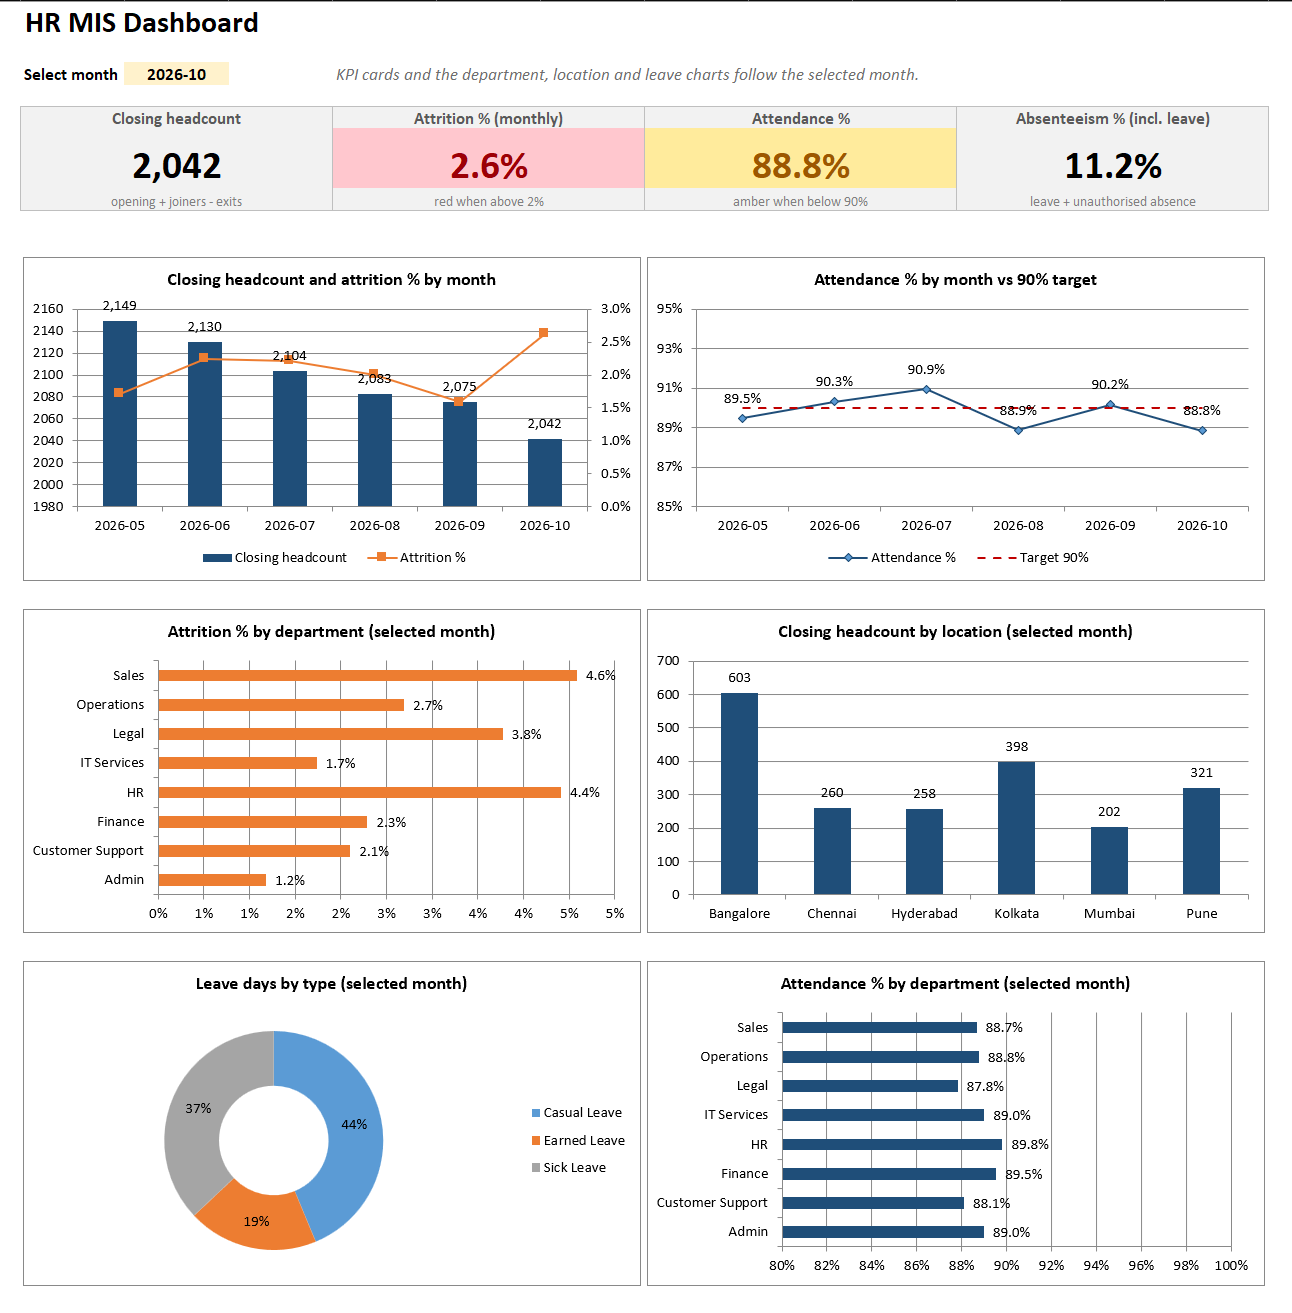

This screenshot's page, from the dashboard's own definition file:
{"tool":"powerbi","page":{"name":"Page 1","canvas":[1325,720],"ordinal":0},"visuals":[{"type":"cardVisual","fields":{"Data":["Master_Data.Closing Headcount"]},"box":[324.2,65.4,240.5,102],"z":0},{"type":"cardVisual","fields":{"Data":["Master_Data.Absenteeism %"]},"box":[1115,65.4,210,102],"z":1000},{"type":"cardVisual","fields":{"Data":["Master_Data.Attrition %"]},"box":[586,65.4,240.5,102],"z":2000},{"type":"cardVisual","fields":{"Data":["Master_Data.Attendance %"]},"box":[861.5,65.4,210,102],"z":3000},{"type":"lineClusteredColumnComboChart","title":"Headcount and Attrition % by Month","fields":{"Category":["Master_Data.Month_Key"],"Y":["Master_Data.Closing Headcount"],"Y2":["Master_Data.Attrition %"]},"box":[16.7,187.2,392.7,251.1],"z":4000},{"type":"lineChart","title":"Attendance % vs 90% Target","fields":{"Category":["Master_Data.Month_Key"],"Y":["Master_Data.Attendance %","Master_Data.Attendance Target"]},"box":[432.3,187.2,394.2,251.1],"z":5000},{"type":"clusteredBarChart","title":"Attrition % by Department","fields":{"Category":["Master_Data.Department"],"Y":["Master_Data.Attrition %"]},"box":[844.7,187.2,458.1,251.1],"z":6000},{"type":"columnChart","title":"\tHeadcount by Location","fields":{"Y":["Master_Data.Closing Headcount"],"Category":["Master_Data.Location"]},"box":[16.7,458.1,392.7,249.6],"z":7000},{"type":"donutChart","title":"Leave Days by Type","fields":{"Category":["Master_Data.Leave_Type"],"Y":["Sum(Master_Data.Leave_Days)"]},"box":[432.3,458.6,394.2,249.6],"z":8000},{"type":"clusteredBarChart","title":"\tAttendance % by Department","fields":{"Y":["Master_Data.Attendance %"],"Category":["Master_Data.Department"]},"box":[844.7,458.6,458.1,249.6],"z":9000},{"type":"slicer","fields":{"Values":["Master_Data.Month_Key"]},"box":[16.7,77.6,205.5,102],"z":10000},{"type":"image","box":[336.4,56.3,85.2,98.9],"z":10001},{"type":"image","box":[589,67,85.2,98.9],"z":10002},{"type":"image","box":[840.2,68.5,85.2,98.9],"z":10003},{"type":"image","box":[1094.3,65.4,85.2,98.9],"z":10004},{"type":"textbox","box":[474.9,3,309,65.4],"z":10005},{"type":"textbox","box":[359.2,39.6,566.2,38.1],"z":10006}]}

Visuals, with their boxes on the page's 1325x720 design canvas (x1, y1, x2, y2). These are canvas units, not pixel positions in the 1292x1313 screenshot, which may show the page scaled, cropped or inside an application window:
cardVisual - Master_Data.Closing Headcount: 324 65 565 167
cardVisual - Master_Data.Absenteeism %: 1115 65 1325 167
cardVisual - Master_Data.Attrition %: 586 65 826 167
cardVisual - Master_Data.Attendance %: 862 65 1072 167
"Headcount and Attrition % by Month" lineClusteredColumnComboChart: 17 187 409 438
"Attendance % vs 90% Target" lineChart: 432 187 826 438
"Attrition % by Department" clusteredBarChart: 845 187 1303 438
"	Headcount by Location" columnChart: 17 458 409 708
"Leave Days by Type" donutChart: 432 459 826 708
"	Attendance % by Department" clusteredBarChart: 845 459 1303 708
slicer - Master_Data.Month_Key: 17 78 222 180
image: 336 56 422 155
image: 589 67 674 166
image: 840 68 925 167
image: 1094 65 1180 164
textbox: 475 3 784 68
textbox: 359 40 925 78
